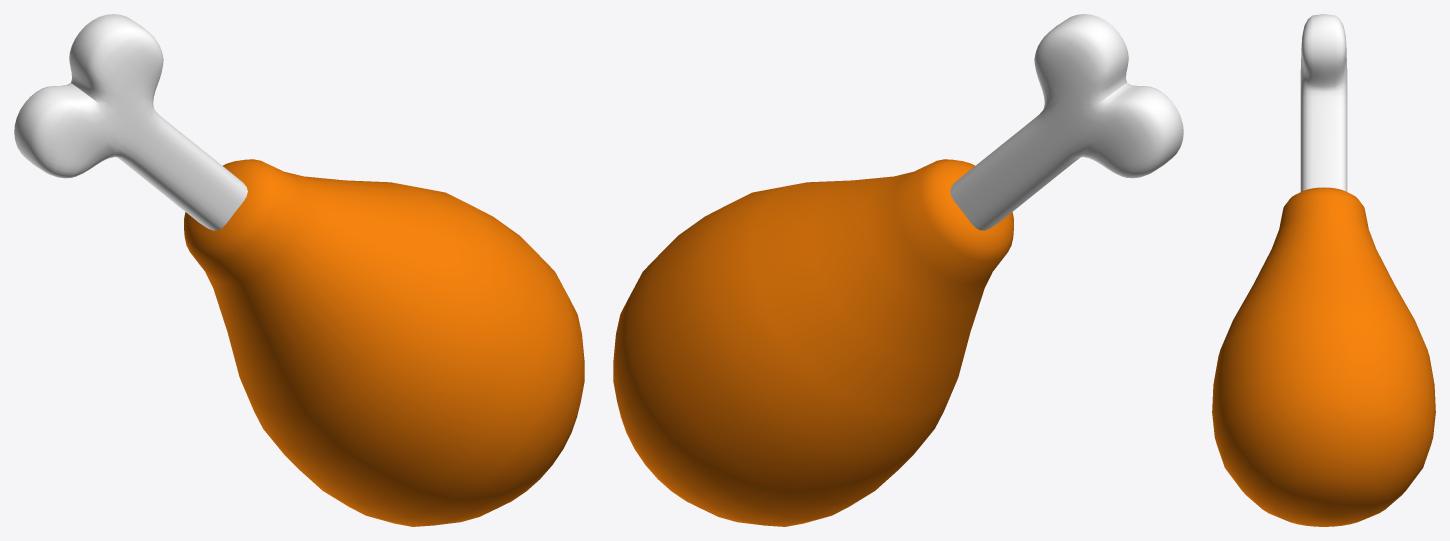
The model's file is poultry_leg.glb.
3 renders of one model, left to right at view 1: azimuth 30°, elevation 25°; view 2: azimuth 150°, elevation 25°; view 3: azimuth 270°, elevation 25°, orthographic. The views are drawn at different scales.
Visible parts, largest first — view 1: Skull and Crossbones.002; view 2: Skull and Crossbones.002; view 3: Skull and Crossbones.002.
Boxes of the visible parts, left/top/right/bottom form: Skull and Crossbones.002: left=14, top=14, right=584, bottom=526; Skull and Crossbones.002: left=613, top=14, right=1183, bottom=526; Skull and Crossbones.002: left=1212, top=14, right=1435, bottom=526.
Bounding box in the file's own units: 2.22 × 2.22 × 1.14.
1 material, 1 textured.
